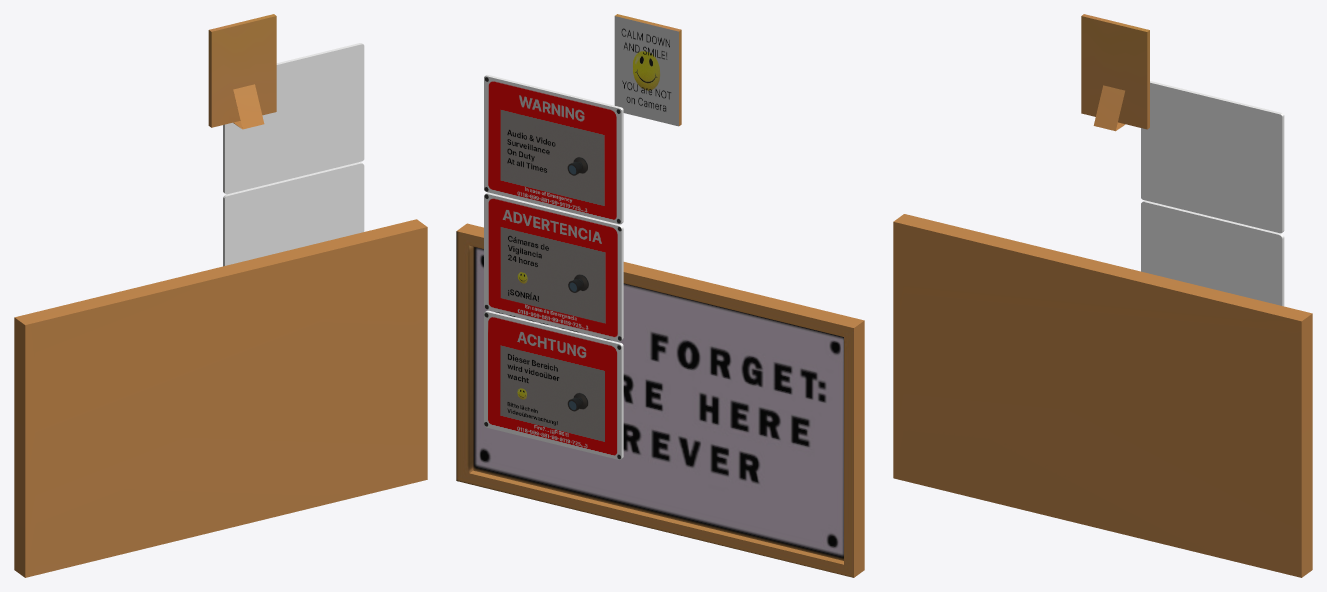
File: Carteles.fbx
3 views of the same model, side by side, from view 1: azimuth 30°, elevation 25°; view 2: azimuth 150°, elevation 25°; view 3: azimuth 330°, elevation 25° (orthographic). The views are drawn at different scales.
Visible parts, largest first — view 1: Cuadro, Warning, Advertencia, PortaImagen; view 2: Cuadro, Achtung, Warning, Advertencia, PortaImagen; view 3: Cuadro, Warning, Advertencia, PortaImagen.
Part boxes in pixels (bbox=[...]): Cuadro: bbox=[14, 219, 427, 577]; Warning: bbox=[223, 43, 364, 194]; Advertencia: bbox=[223, 162, 364, 266]; PortaImagen: bbox=[208, 14, 276, 129]; Cuadro: bbox=[456, 223, 864, 577]; Achtung: bbox=[484, 310, 623, 459]; Warning: bbox=[484, 75, 623, 224]; Advertencia: bbox=[484, 192, 623, 341]; PortaImagen: bbox=[614, 14, 681, 126]; Cuadro: bbox=[893, 214, 1312, 577]; Warning: bbox=[1141, 81, 1284, 233]; Advertencia: bbox=[1141, 200, 1284, 306]; PortaImagen: bbox=[1081, 14, 1149, 131].
Size of the model in its own units: 103 by 122 by 15.04.
Materials: 5 (5 with a texture image).
